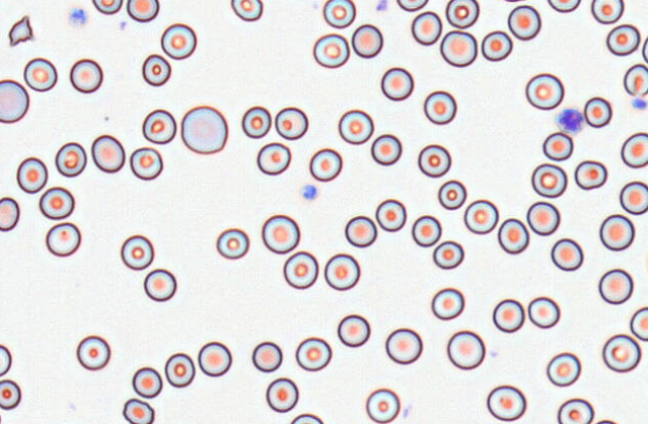PLT: (555, 108, 585, 135), (67, 6, 89, 28), (298, 181, 320, 201), (631, 98, 648, 112)
RBC: (180, 105, 228, 154), (446, 330, 485, 370), (261, 214, 300, 254), (602, 333, 641, 372), (525, 72, 564, 110), (486, 384, 526, 421), (439, 29, 477, 67), (384, 327, 422, 364), (282, 250, 318, 289), (323, 253, 360, 290), (160, 22, 196, 59), (599, 213, 634, 251), (91, 134, 125, 173), (45, 221, 81, 257), (531, 162, 567, 198), (312, 33, 349, 68), (0, 79, 29, 123), (365, 387, 400, 423), (295, 336, 331, 371), (598, 268, 633, 304), (337, 109, 373, 144), (546, 352, 581, 387), (463, 199, 498, 234), (120, 234, 154, 270), (142, 108, 176, 144), (76, 334, 110, 370), (507, 4, 541, 40), (197, 341, 231, 376), (23, 57, 57, 92), (69, 58, 103, 93), (38, 186, 74, 219), (497, 217, 529, 254), (16, 156, 48, 193), (526, 201, 560, 235), (274, 106, 308, 140), (417, 143, 451, 177), (380, 66, 413, 101), (265, 377, 298, 412), (256, 142, 291, 175), (54, 141, 86, 177), (550, 237, 583, 271), (129, 146, 162, 180), (309, 147, 342, 181), (606, 23, 640, 56), (423, 90, 456, 124), (351, 23, 383, 58), (431, 287, 464, 320), (143, 268, 176, 301), (337, 314, 370, 347), (410, 11, 442, 45), (492, 298, 524, 332), (215, 227, 249, 259), (164, 352, 195, 387), (344, 215, 377, 247), (527, 296, 560, 328), (375, 198, 406, 232), (574, 159, 607, 190), (619, 180, 648, 215), (620, 132, 648, 168), (557, 397, 594, 424), (131, 366, 162, 398), (370, 133, 401, 165), (480, 30, 512, 61), (411, 214, 441, 247), (141, 53, 171, 86), (241, 105, 271, 138), (251, 341, 282, 372), (322, 0, 356, 28), (445, 0, 479, 28), (542, 131, 573, 161), (432, 240, 464, 269), (583, 96, 612, 128), (437, 179, 466, 210), (122, 397, 154, 424), (623, 63, 648, 97), (590, 0, 624, 24), (126, 0, 159, 22), (0, 196, 20, 231), (230, 0, 263, 21), (0, 378, 21, 410), (629, 306, 648, 341), (91, 0, 123, 14), (547, 0, 581, 12), (0, 343, 12, 376), (289, 413, 324, 424), (396, 0, 428, 11), (641, 34, 648, 64), (591, 419, 621, 424), (645, 242, 648, 278), (497, 0, 530, 2), (0, 410, 2, 424)
Schistocyte: (8, 14, 38, 48)
